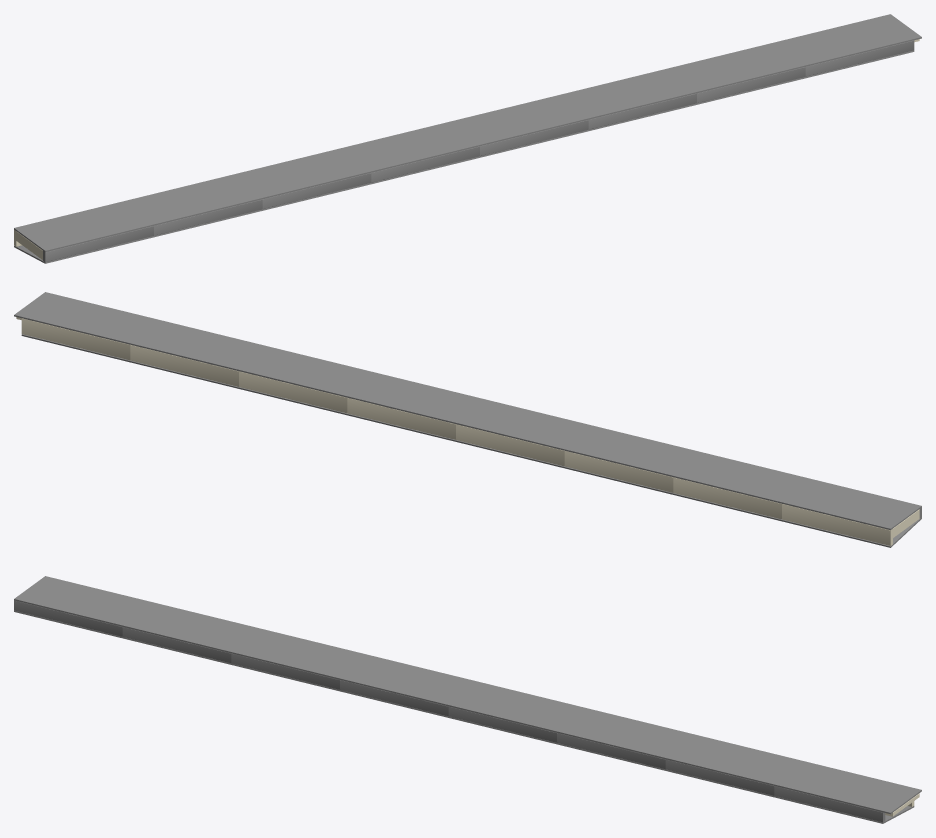
The model's file is 2026_ARC_3v3_outer_wall_right.gltf.
3 views of the same model, one above another, from view 1: azimuth 30°, elevation 25°; view 2: azimuth 150°, elevation 25°; view 3: azimuth 330°, elevation 25° (orthographic).
Visible parts, largest first — view 1: Surface 369, Surface 1037, Surface 961, Surface 657, Surface 755, Surface 825, Surface 987, Surface 917, Surface 1038, Surface 372, Surface 964, Surface 828 (+4 smaller); view 2: Surface 369, Surface 1037, Surface 657, Surface 825, Surface 961, Surface 987, Surface 917, Surface 755, Surface 1039, Surface 377, Surface 969, Surface 995 (+4 smaller); view 3: Surface 369, Surface 657, Surface 755, Surface 917, Surface 1037, Surface 961, Surface 987, Surface 825, Surface 372, Surface 660, Surface 990, Surface 920 (+4 smaller).
Boxes of the visible parts, x1,y1,x2,y2 form: Surface 369: (774, 14, 921, 66); Surface 1037: (14, 201, 153, 252); Surface 961: (232, 148, 371, 198); Surface 657: (666, 42, 805, 93); Surface 755: (557, 69, 696, 119); Surface 825: (449, 95, 588, 146); Surface 987: (123, 175, 262, 225); Surface 917: (340, 122, 479, 172); Surface 1038: (43, 226, 153, 262); Surface 372: (805, 40, 914, 76); Surface 964: (262, 173, 371, 208); Surface 828: (480, 120, 588, 156); Surface 369: (14, 292, 160, 344); Surface 1037: (782, 479, 921, 530); Surface 657: (130, 320, 269, 371); Surface 825: (347, 373, 486, 423); Surface 961: (564, 426, 703, 476); Surface 987: (673, 453, 812, 503); Surface 917: (456, 400, 595, 450); Surface 755: (239, 347, 378, 397); Surface 1039: (782, 504, 892, 545); Surface 377: (21, 318, 130, 360); Surface 969: (564, 451, 673, 492); Surface 995: (673, 477, 781, 519); Surface 369: (774, 761, 921, 814); Surface 657: (665, 735, 805, 785); Surface 755: (557, 708, 696, 759); Surface 917: (340, 655, 479, 706); Surface 1037: (14, 576, 153, 626); Surface 961: (231, 629, 370, 679); Surface 987: (122, 602, 261, 653); Surface 825: (448, 682, 587, 732); Surface 372: (774, 786, 885, 822); Surface 660: (665, 759, 774, 795); Surface 990: (122, 627, 231, 663); Surface 920: (340, 680, 448, 716).
Size of the model in its own units: 8.07 by 0.1689 by 0.5.
